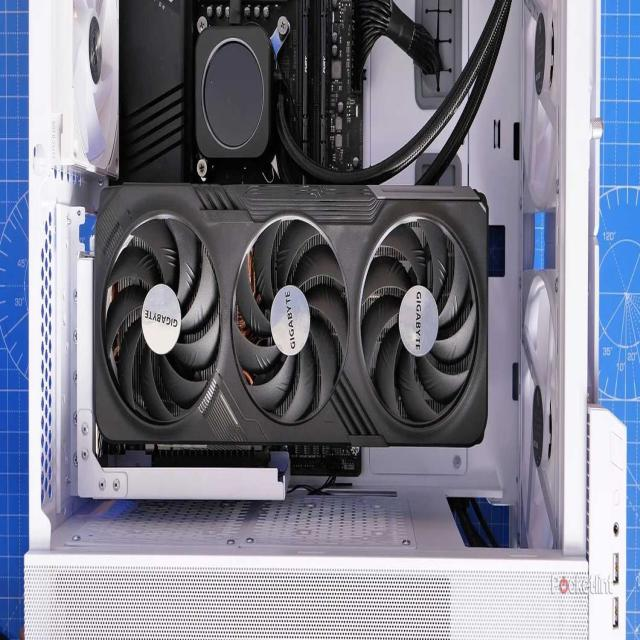electronics: (25, 0, 624, 639), (93, 185, 487, 445), (123, 0, 510, 184), (119, 0, 363, 183), (119, 0, 361, 183), (277, 0, 510, 184), (185, 0, 364, 183), (121, 0, 279, 183), (121, 0, 275, 183), (519, 0, 567, 545), (360, 219, 482, 423), (360, 219, 477, 423), (233, 218, 348, 423), (103, 218, 219, 420), (235, 219, 347, 422), (186, 2, 300, 183), (416, 0, 510, 184), (119, 0, 194, 181), (353, 0, 462, 108), (53, 0, 119, 175), (520, 271, 559, 547), (195, 24, 274, 160), (587, 404, 631, 638), (308, 0, 364, 169), (102, 444, 363, 480), (523, 0, 561, 209), (352, 0, 443, 87), (72, 0, 118, 169), (587, 34, 605, 403), (405, 0, 463, 109), (285, 444, 361, 478), (447, 497, 500, 545), (144, 447, 270, 467), (587, 304, 599, 403), (287, 473, 336, 495), (433, 156, 462, 185), (588, 237, 600, 301), (415, 153, 436, 181), (452, 127, 468, 155), (198, 6, 213, 31), (123, 28, 137, 52), (107, 445, 127, 460), (493, 119, 501, 149), (413, 27, 428, 39), (438, 156, 450, 171), (283, 3, 297, 15), (614, 582, 624, 596), (314, 80, 322, 97), (285, 3, 296, 14), (224, 8, 232, 21), (268, 14, 277, 25), (73, 141, 80, 154), (589, 5, 599, 14), (336, 133, 342, 147), (425, 77, 434, 86), (355, 18, 364, 27), (372, 32, 381, 40), (340, 482, 352, 488), (120, 115, 125, 128), (293, 115, 299, 125), (215, 11, 221, 18), (257, 12, 267, 16), (429, 62, 437, 67), (291, 78, 295, 87), (620, 564, 623, 576), (245, 11, 250, 17), (433, 175, 438, 181), (436, 20, 439, 30), (436, 23, 438, 37), (241, 11, 245, 18), (619, 607, 623, 614), (119, 64, 123, 71), (295, 20, 297, 33), (617, 536, 621, 542), (437, 158, 440, 165), (614, 591, 618, 596), (369, 2, 375, 5), (514, 152, 517, 158), (416, 96, 419, 102), (278, 168, 282, 172), (310, 14, 314, 18), (409, 20, 413, 24), (218, 27, 223, 30), (593, 27, 596, 31), (336, 124, 340, 127), (620, 555, 622, 561), (121, 21, 123, 27), (425, 124, 428, 128), (340, 134, 341, 143), (114, 461, 117, 464), (234, 332, 237, 335), (277, 33, 279, 37), (285, 64, 287, 68), (271, 25, 273, 28), (303, 12, 304, 18), (294, 49, 296, 52), (443, 55, 445, 58), (588, 2, 594, 3), (567, 444, 572, 445), (584, 347, 585, 351), (267, 8, 268, 12), (302, 122, 304, 124), (488, 71, 489, 75), (367, 14, 368, 18), (458, 37, 460, 39), (448, 106, 450, 108), (283, 33, 286, 34), (52, 90, 53, 93), (96, 2, 99, 3), (421, 42, 424, 43), (125, 175, 126, 178), (596, 144, 597, 146), (187, 62, 188, 64), (592, 20, 594, 21), (314, 100, 315, 102), (476, 266, 477, 268), (444, 42, 446, 43), (340, 124, 341, 125), (449, 111, 450, 112), (438, 11, 438, 12), (298, 96, 298, 97), (436, 87, 436, 91), (456, 58, 456, 59), (434, 40, 434, 42)
fans: (277, 0, 511, 184), (448, 497, 500, 545), (447, 128, 463, 150), (354, 21, 358, 28), (428, 175, 432, 178), (438, 160, 440, 163), (461, 124, 465, 125), (382, 21, 383, 25), (469, 124, 470, 125), (434, 169, 434, 171)
